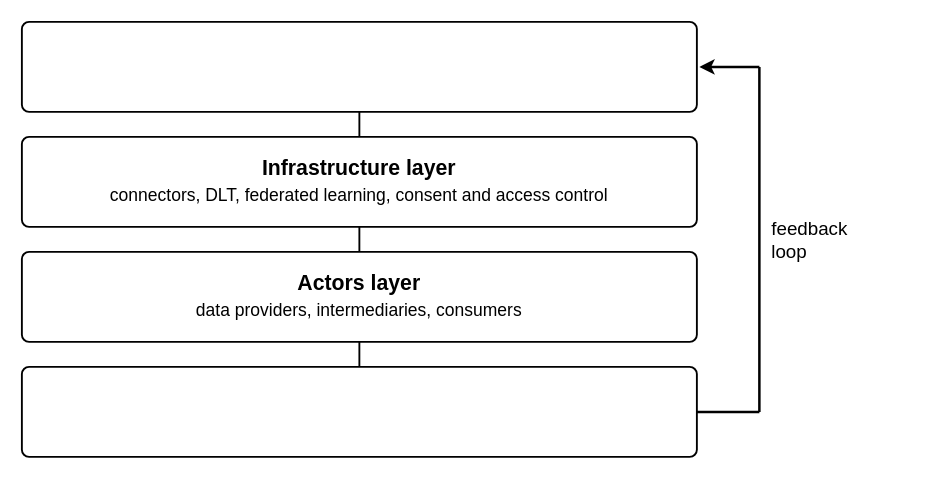
The diagram is 929 pixels wide and 480 high, and some of its shapes have lost their labels. Each missing label, with the box of its shape:
Application and value layer sector use cases and data-driven innovation: (20, 365, 697, 457)
Governance and regulation layer regulators, policymakers, ethics boards: (20, 20, 697, 112)
